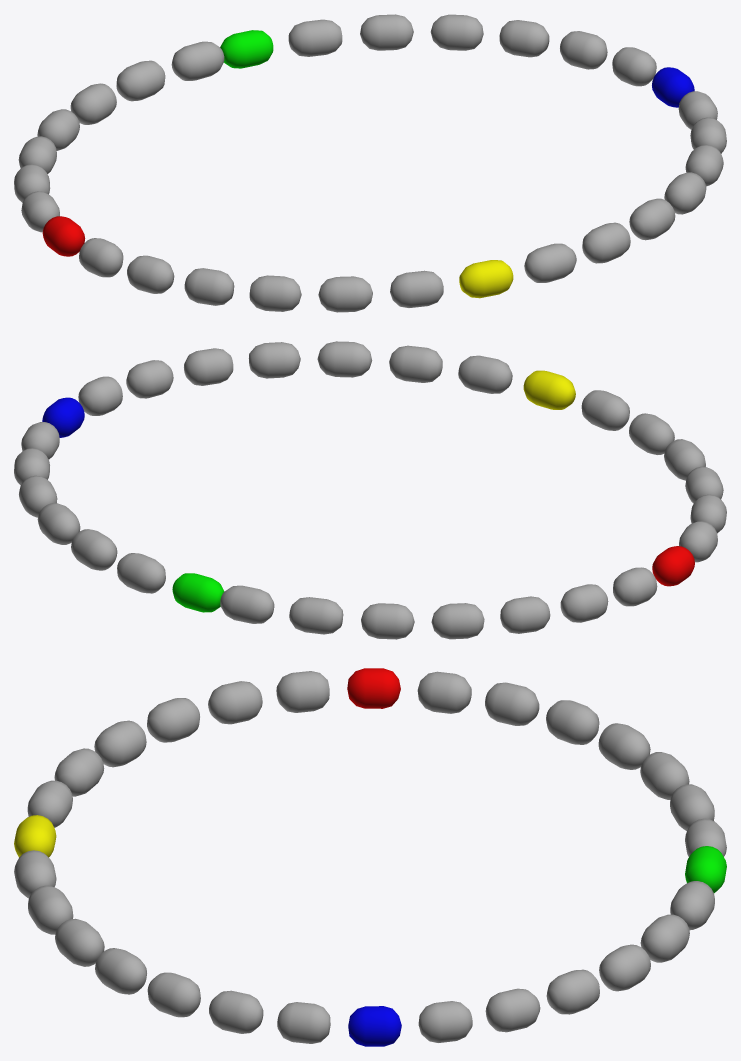
Rendered from ellipseseparated.fbx.
The picture shows the model from 3 angles, top to bottom: view 1: azimuth 30°, elevation 25°; view 2: azimuth 150°, elevation 25°; view 3: azimuth 270°, elevation 25°; orthographic projection. The views are drawn at different scales.
Visible parts, largest first — view 1: MASH1_ReproMesh.029, MASH1_ReproMesh.015, MASH1_ReproMesh.013, MASH1_ReproMesh.014, MASH1_ReproMesh.028, MASH1_ReproMesh.001, MASH1_ReproMesh, MASH1_ReproMesh.016, MASH1_ReproMesh.027, MASH1_ReproMesh.012, MASH1_ReproMesh.026, MASH1_ReproMesh.002 (+18 smaller); view 2: MASH1_ReproMesh.002, MASH1_ReproMesh.016, MASH1_ReproMesh.001, MASH1_ReproMesh.018, MASH1_ReproMesh.017, MASH1_ReproMesh.003, MASH1_ReproMesh.015, MASH1_ReproMesh.004, MASH1_ReproMesh.019, MASH1_ReproMesh, MASH1_ReproMesh.029, MASH1_ReproMesh.005 (+18 smaller); view 3: MASH1_ReproMesh.006, MASH1_ReproMesh.025, MASH1_ReproMesh.021, MASH1_ReproMesh.020, MASH1_ReproMesh.010, MASH1_ReproMesh.009, MASH1_ReproMesh.022, MASH1_ReproMesh.026, MASH1_ReproMesh.024, MASH1_ReproMesh.007, MASH1_ReproMesh.011, MASH1_ReproMesh.008 (+18 smaller).
Boxes of the visible parts, left/top/right/bottom form: MASH1_ReproMesh.029: left=288, top=19, right=342, bottom=56; MASH1_ReproMesh.015: left=459, top=260, right=513, bottom=298; MASH1_ReproMesh.013: left=318, top=276, right=372, bottom=312; MASH1_ReproMesh.014: left=390, top=270, right=443, bottom=307; MASH1_ReproMesh.028: left=360, top=14, right=413, bottom=50; MASH1_ReproMesh.001: left=171, top=41, right=224, bottom=80; MASH1_ReproMesh: left=220, top=30, right=273, bottom=68; MASH1_ReproMesh.016: left=524, top=243, right=576, bottom=282; MASH1_ReproMesh.027: left=430, top=14, right=483, bottom=50; MASH1_ReproMesh.012: left=249, top=275, right=301, bottom=311; MASH1_ReproMesh.026: left=499, top=20, right=549, bottom=57; MASH1_ReproMesh.002: left=116, top=60, right=165, bottom=101; MASH1_ReproMesh.002: left=289, top=597, right=343, bottom=634; MASH1_ReproMesh.016: left=458, top=355, right=512, bottom=393; MASH1_ReproMesh.001: left=220, top=585, right=274, bottom=623; MASH1_ReproMesh.018: left=317, top=341, right=372, bottom=377; MASH1_ReproMesh.017: left=389, top=345, right=442, bottom=382; MASH1_ReproMesh.003: left=361, top=603, right=414, bottom=639; MASH1_ReproMesh.015: left=523, top=370, right=575, bottom=409; MASH1_ReproMesh.004: left=431, top=603, right=484, bottom=639; MASH1_ReproMesh.019: left=248, top=342, right=300, bottom=378; MASH1_ReproMesh: left=172, top=573, right=224, bottom=612; MASH1_ReproMesh.029: left=117, top=553, right=165, bottom=593; MASH1_ReproMesh.005: left=500, top=596, right=550, bottom=633; MASH1_ReproMesh.006: left=485, top=682, right=539, bottom=725; MASH1_ReproMesh.025: left=485, top=988, right=540, bottom=1032; MASH1_ReproMesh.021: left=209, top=990, right=263, bottom=1033; MASH1_ReproMesh.020: left=147, top=972, right=200, bottom=1017; MASH1_ReproMesh.010: left=208, top=681, right=262, bottom=724; MASH1_ReproMesh.009: left=276, top=671, right=329, bottom=712; MASH1_ReproMesh.022: left=277, top=1002, right=330, bottom=1043; MASH1_ReproMesh.026: left=546, top=969, right=599, bottom=1014; MASH1_ReproMesh.024: left=418, top=1001, right=472, bottom=1042; MASH1_ReproMesh.007: left=417, top=671, right=471, bottom=713; MASH1_ReproMesh.011: left=147, top=698, right=199, bottom=742; MASH1_ReproMesh.008: left=347, top=668, right=400, bottom=708.
Bounding box in the file's own units: 25.26 × 1.22 × 21.43.
